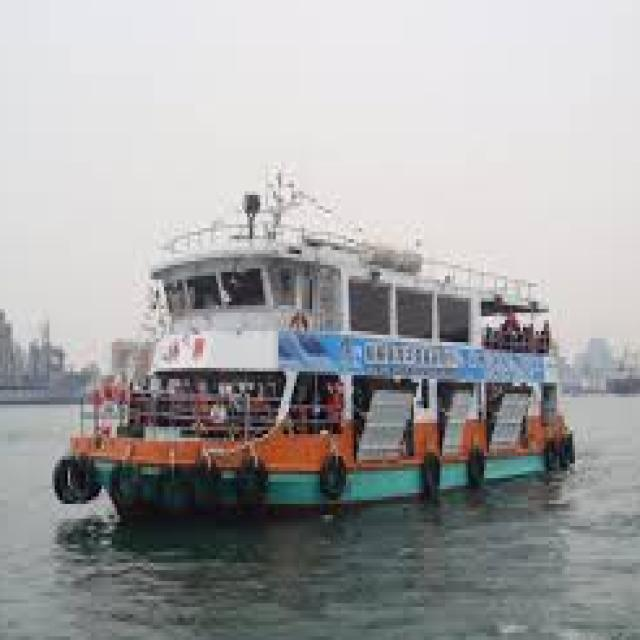passenger ship: (39, 171, 579, 531)
